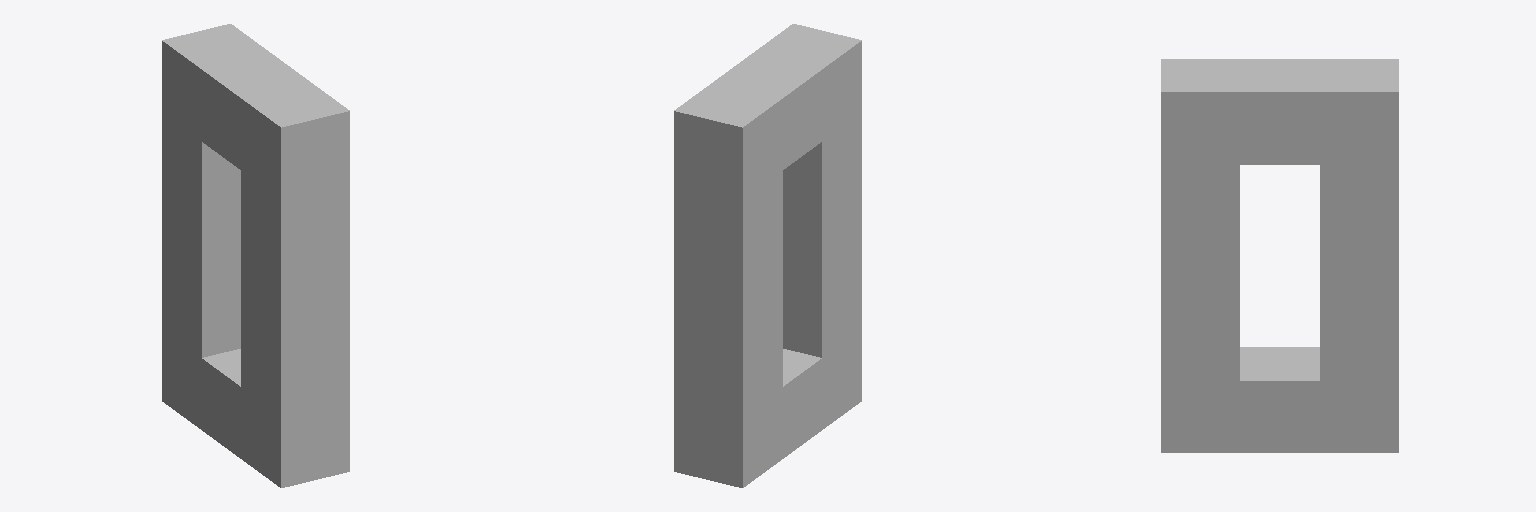
The picture shows the model from 3 angles: view 1: azimuth 30°, elevation 25°; view 2: azimuth 150°, elevation 25°; view 3: azimuth 270°, elevation 25°; orthographic projection.
Visible parts, largest first — view 1: mesh[number redacted]; view 2: mesh[number redacted]; view 3: mesh[number redacted].
Part boxes in pixels (x1,y1,x2,y2): mesh[number redacted]: (162,24,349,487); mesh[number redacted]: (674,24,861,487); mesh[number redacted]: (1161,59,1398,452).
Bounding box in the file's own units: 0.02 × 0.1 × 0.06.